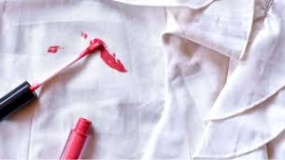lipstick: (96, 45, 130, 72), (86, 35, 106, 53), (47, 43, 61, 56), (78, 32, 86, 40)
